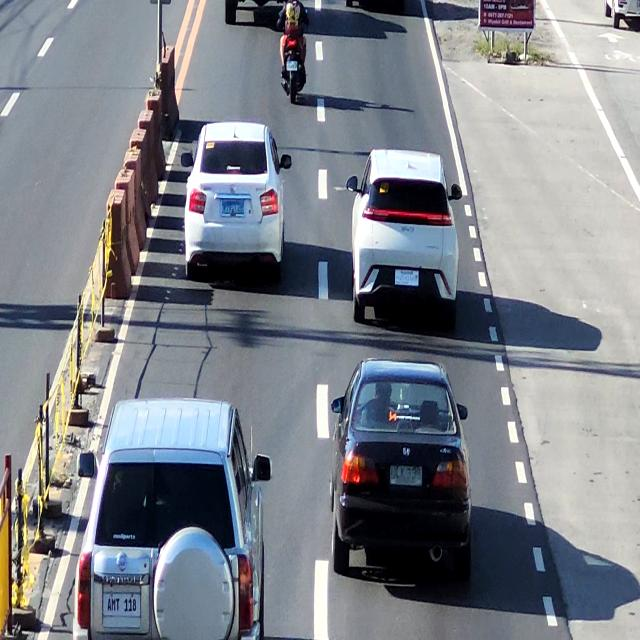Car: (79, 397, 264, 640), (324, 358, 473, 579), (351, 151, 456, 330), (183, 120, 287, 278)
License-Plate: (102, 585, 141, 621), (393, 258, 421, 295), (388, 466, 424, 492), (220, 196, 246, 221), (284, 55, 301, 73)
Motorcycle: (282, 0, 304, 108)
